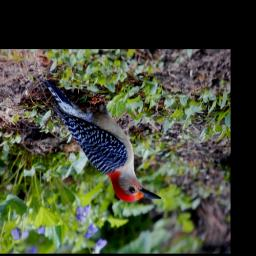Woodpecker: (42, 79, 161, 203)
